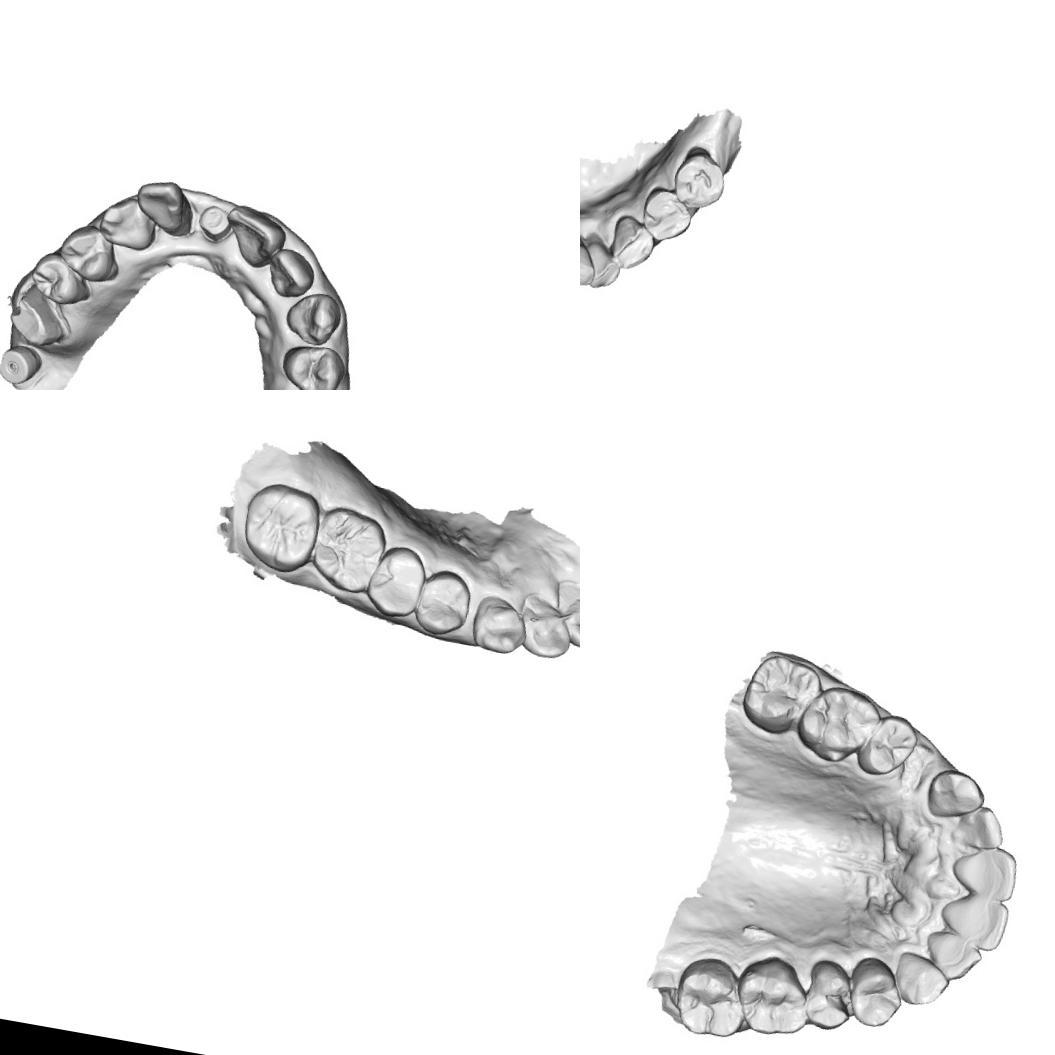canine: (92, 190, 163, 256), (467, 590, 532, 658), (280, 286, 348, 350), (888, 948, 954, 1010), (924, 764, 989, 824), (606, 212, 657, 272)
crown: (1, 279, 78, 352)
implant: (0, 338, 43, 388), (194, 201, 236, 244)
incisor: (217, 200, 291, 274), (126, 174, 199, 242), (946, 839, 1021, 903), (935, 891, 1010, 953), (514, 594, 578, 662), (919, 928, 986, 984), (262, 243, 318, 302), (949, 801, 1009, 852), (582, 239, 625, 292), (552, 581, 580, 654), (580, 239, 599, 289)
molar: (235, 476, 325, 578), (790, 679, 884, 769), (736, 650, 826, 742), (728, 950, 817, 1042), (306, 502, 391, 598), (668, 950, 754, 1042)
premolar: (361, 540, 430, 622), (841, 954, 909, 1032), (51, 218, 125, 287), (853, 708, 922, 782), (799, 955, 859, 1034), (410, 565, 474, 639), (26, 247, 98, 310), (668, 145, 730, 213), (276, 338, 350, 390), (637, 183, 696, 246)
